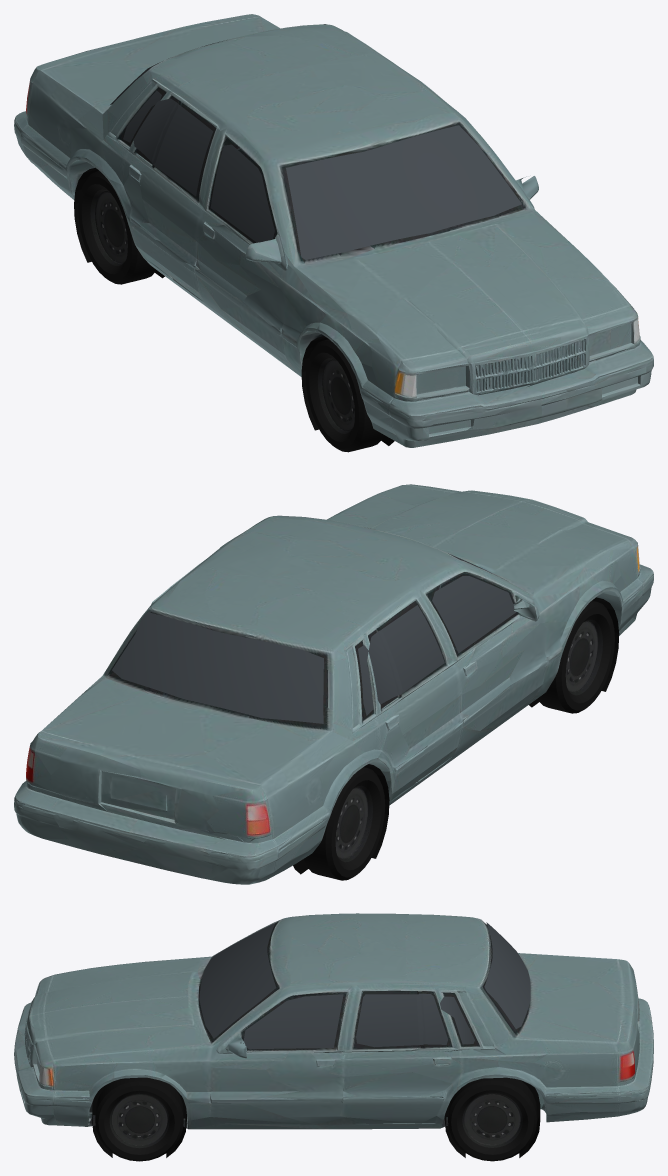
Rendered from sedan.glb.
3 renders of one model, top to bottom at view 1: azimuth 30°, elevation 25°; view 2: azimuth 150°, elevation 25°; view 3: azimuth 270°, elevation 25°, orthographic. The views are drawn at different scales.
Parts seen in each view (by area): view 1: body, glass, wheel_fr, wheel_rr; view 2: body, glass, wheel_rr, wheel_fr; view 3: body, glass, wheel_rl, wheel_fl.
Boxes of the visible parts, x1,y1,x2,y2 form: body: (14, 14, 653, 447); glass: (110, 24, 521, 259); wheel_fr: (305, 339, 384, 452); wheel_rr: (78, 171, 156, 284); body: (14, 484, 653, 884); glass: (112, 528, 515, 723); wheel_rr: (303, 767, 385, 880); wheel_fr: (537, 600, 614, 713); body: (14, 913, 653, 1157); glass: (199, 922, 530, 1049); wheel_rl: (448, 1077, 537, 1161); wheel_fl: (95, 1077, 183, 1161).
Size of the model in its own units: 2.03 by 1.47 by 5.
3 materials, 2 textured.
